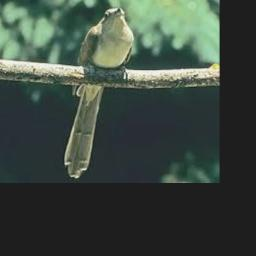Cuckoo: (64, 8, 135, 178)
